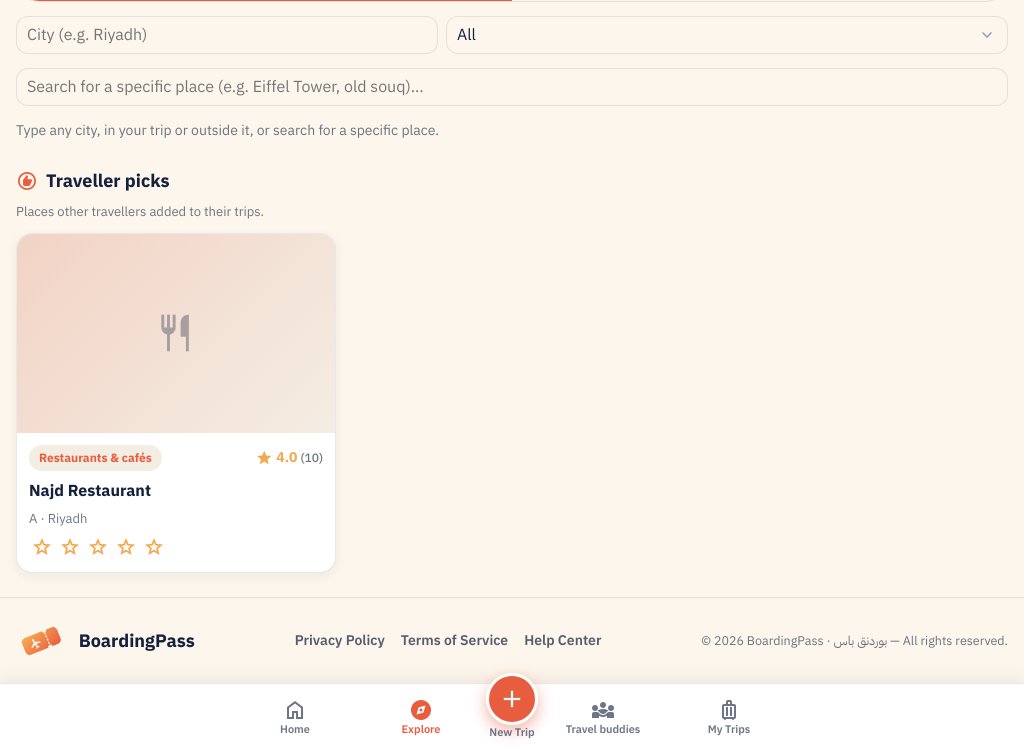
Test: US-012 Explore UI › routes a guest to auth when rating (permission)
(page scrolled)
Click the button named "Rate 4 stars".
click(126, 547)  # box top-left (113, 534), bottom-right (139, 560)
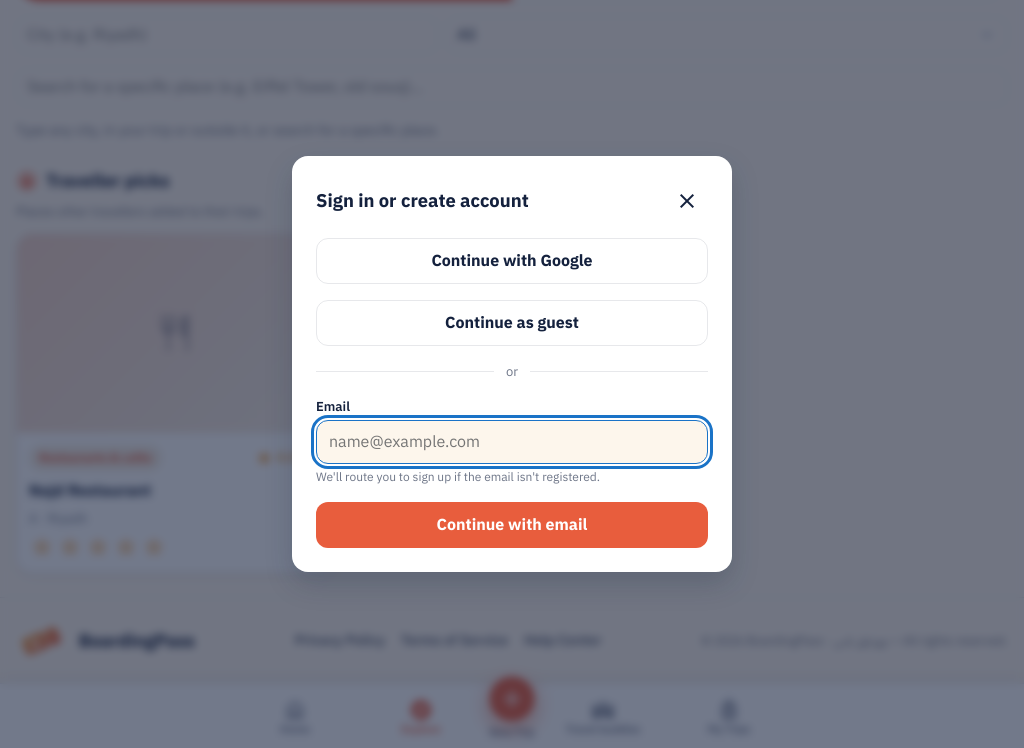
Result: the dialog with test id "auth-modal" is shown at top-left (292, 156), bottom-right (732, 572)
